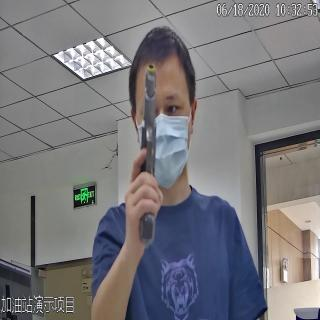gun: (134, 61, 162, 251)
